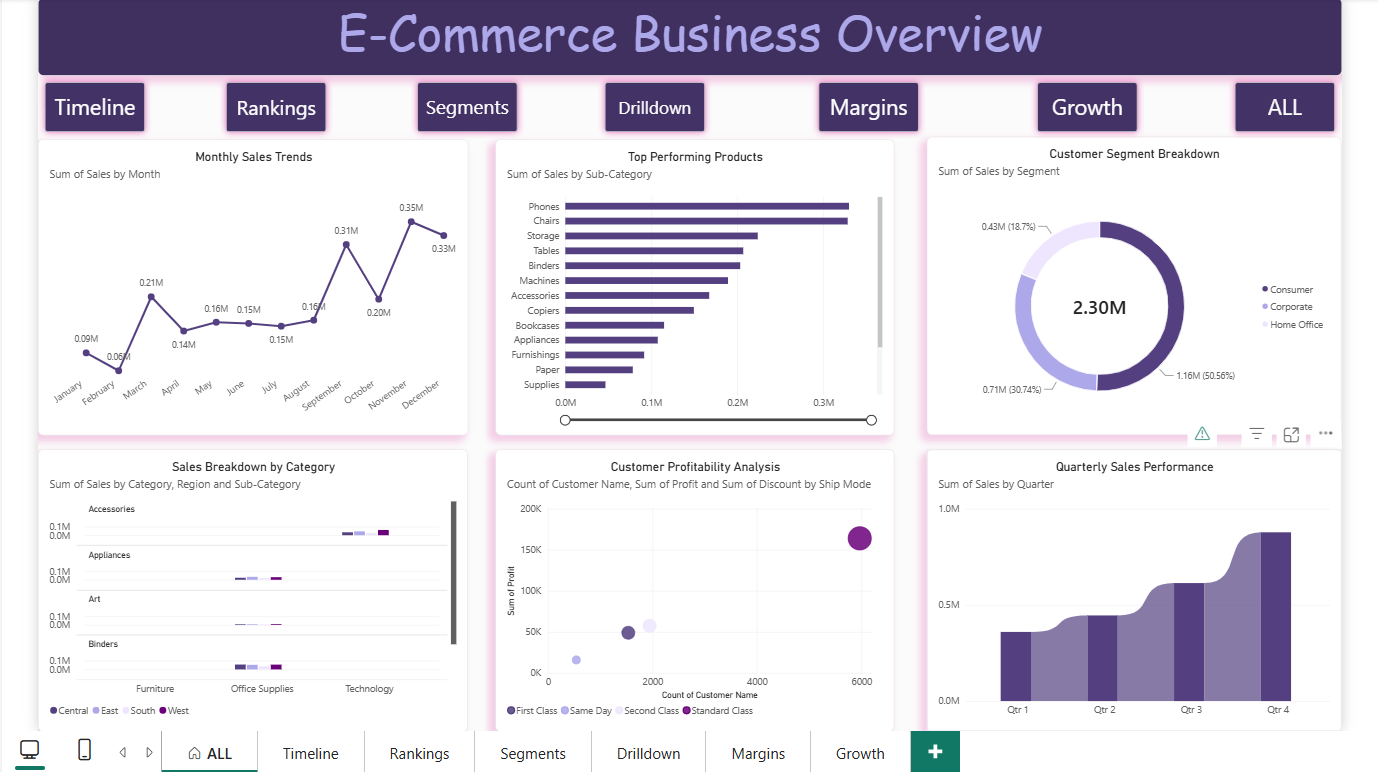

This screenshot's page, from the dashboard's own definition file:
{"tool":"powerbi","page":{"name":"ALL","canvas":[1920,1080],"ordinal":0},"visuals":[{"type":"lineChart","title":"Monthly Sales Trends ","fields":{"Category":["Orders.Order Date.Variation.Date Hierarchy.Month"],"Y":["Sum(Orders.Sales)"]},"box":[0,207.8,633.8,436.4],"z":0},{"type":"clusteredBarChart","title":"Top Performing Products","fields":{"Category":["Orders.Sub-Category"],"Y":["Sum(Orders.Sales)"]},"box":[672.7,207.8,587,436.4],"z":1000},{"type":"donutChart","title":"Customer Segment Breakdown","fields":{"Category":["Orders.Segment"],"Y":["Sum(Orders.Sales)"]},"box":[1309.1,205.2,610.4,439],"z":2000},{"type":"clusteredColumnChart","title":"Sales Breakdown by Category","fields":{"Category":["Orders.Category"],"Rows":["Orders.Sub-Category"],"Series":["Orders.Region"],"Y":["Sum(Orders.Sales)"]},"box":[0,664.4,633.1,416],"z":3000},{"type":"scatterChart","title":"Customer Profitability Analysis","fields":{"Series":["Orders.Ship Mode"],"Size":["Sum(Orders.Discount)"],"X":["Orders.Customer Name"],"Y":["Sum(Orders.Profit)"]},"box":[673.6,664.4,587.1,416],"z":4000},{"type":"ribbonChart","title":"Quarterly Sales Performance","fields":{"Category":["Orders.Order Date.Variation.Date Hierarchy.Quarter"],"Y":["Sum(Orders.Sales)"]},"box":[1308.6,664.4,611,416],"z":5000},{"type":"textbox","title":"E-Commerce Business Overview","box":[0,0,1919.6,114.1],"z":6000},{"type":"actionButton","box":[0,113.6,167.6,93.1],"z":7000},{"type":"actionButton","box":[266.3,113.6,167.6,93.1],"z":8000},{"type":"actionButton","box":[549.3,113.6,167.6,93.1],"z":9000},{"type":"actionButton","box":[824.8,113.6,167.6,93.1],"z":10000},{"type":"actionButton","box":[1139.5,113.6,167.6,93.1],"z":11000},{"type":"actionButton","box":[1461.6,113.6,167.6,93.1],"z":12000},{"type":"actionButton","box":[1752.1,113.6,167.6,93.1],"z":13000}]}

Visuals, with their boxes on the page's 1920x1080 design canvas (x1, y1, x2, y2). These are canvas units, not pixel positions in the 1378x772 screenshot, which may show the page scaled, cropped or inside an application window:
"Monthly Sales Trends " lineChart: {"x1": 0, "y1": 208, "x2": 634, "y2": 644}
"Top Performing Products" clusteredBarChart: {"x1": 673, "y1": 208, "x2": 1260, "y2": 644}
"Customer Segment Breakdown" donutChart: {"x1": 1309, "y1": 205, "x2": 1920, "y2": 644}
"Sales Breakdown by Category" clusteredColumnChart: {"x1": 0, "y1": 664, "x2": 633, "y2": 1080}
"Customer Profitability Analysis" scatterChart: {"x1": 674, "y1": 664, "x2": 1261, "y2": 1080}
"Quarterly Sales Performance" ribbonChart: {"x1": 1309, "y1": 664, "x2": 1920, "y2": 1080}
"E-Commerce Business Overview" textbox: {"x1": 0, "y1": 0, "x2": 1920, "y2": 114}
actionButton: {"x1": 0, "y1": 114, "x2": 168, "y2": 207}
actionButton: {"x1": 266, "y1": 114, "x2": 434, "y2": 207}
actionButton: {"x1": 549, "y1": 114, "x2": 717, "y2": 207}
actionButton: {"x1": 825, "y1": 114, "x2": 992, "y2": 207}
actionButton: {"x1": 1140, "y1": 114, "x2": 1307, "y2": 207}
actionButton: {"x1": 1462, "y1": 114, "x2": 1629, "y2": 207}
actionButton: {"x1": 1752, "y1": 114, "x2": 1920, "y2": 207}
